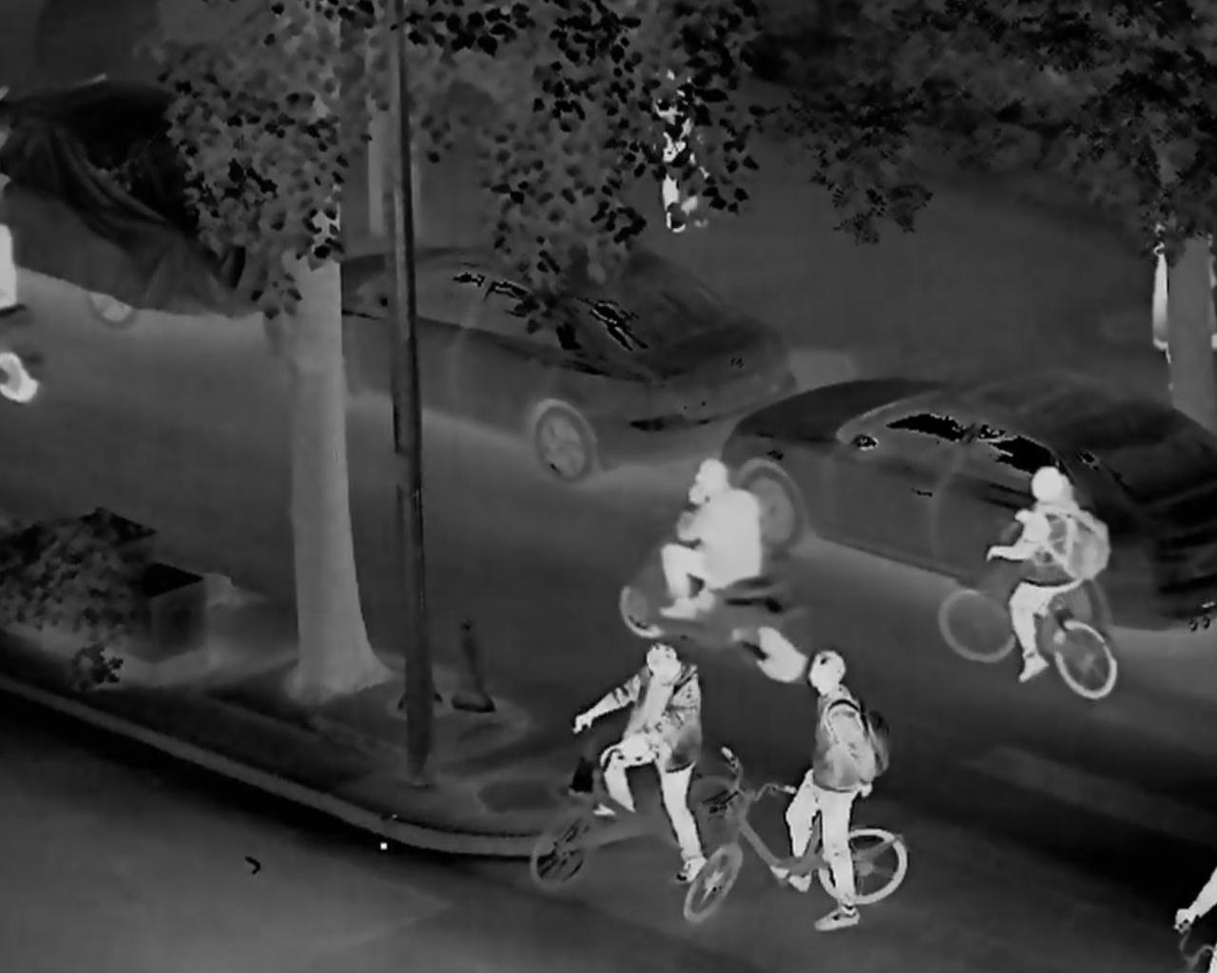person: (978, 454, 1108, 721), (573, 633, 706, 878), (779, 661, 881, 913), (662, 453, 769, 642), (640, 33, 728, 235)
